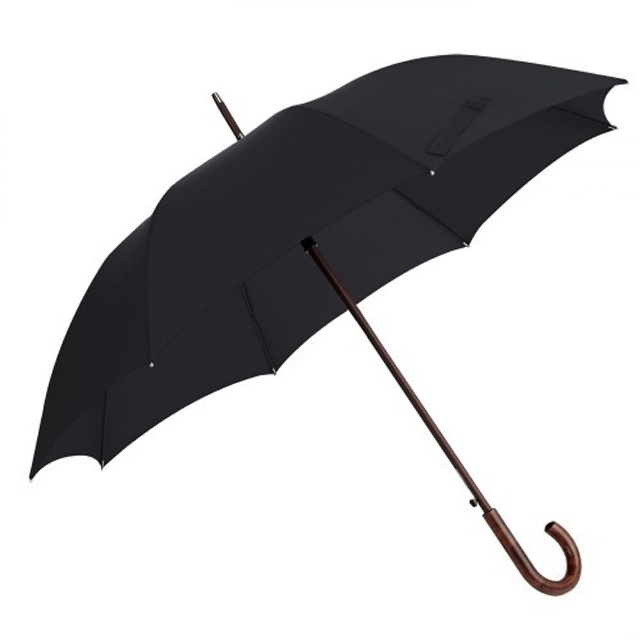umbrella: (24, 47, 630, 600)
